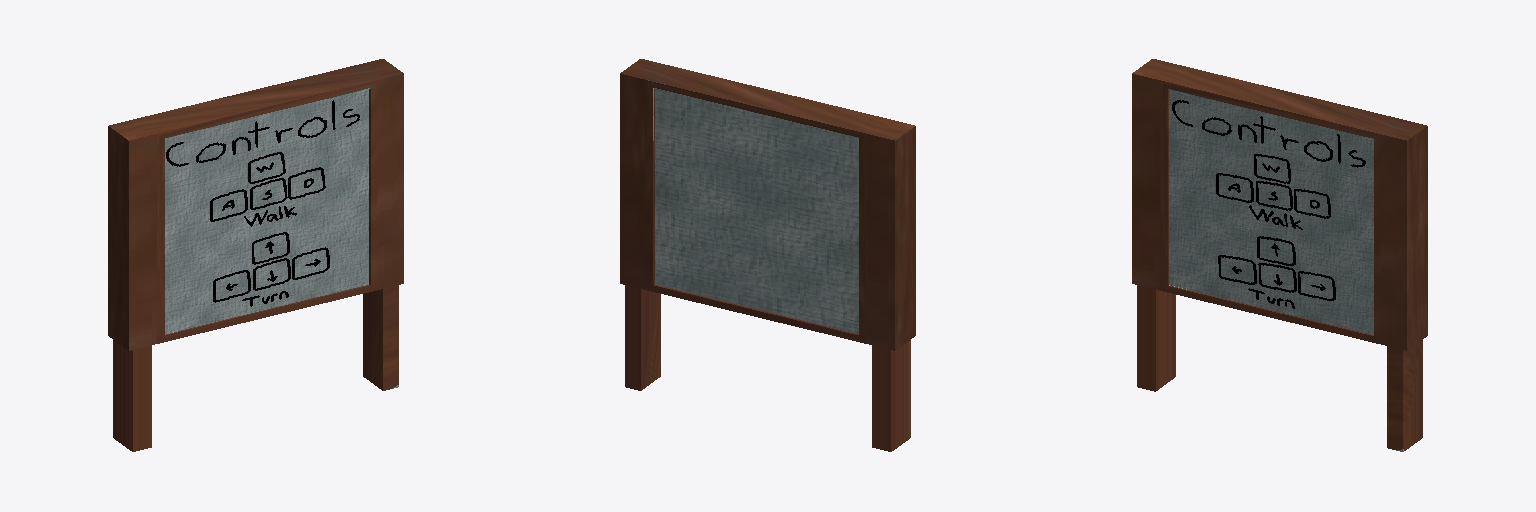
3 views of the same model, side by side, from view 1: azimuth 30°, elevation 25°; view 2: azimuth 150°, elevation 25°; view 3: azimuth 330°, elevation 25° (orthographic).
Visible parts, largest first — view 1: Cube; view 2: Cube; view 3: Cube.
Boxes of the visible parts, x1=… form: Cube: x1=108, y1=59, x2=403, y2=451; Cube: x1=620, y1=59, x2=915, y2=451; Cube: x1=1132, y1=59, x2=1427, y2=451.
Bounding box in the file's own units: 2.74 × 2.97 × 0.3551.
Materials: 1 (1 with a texture image).